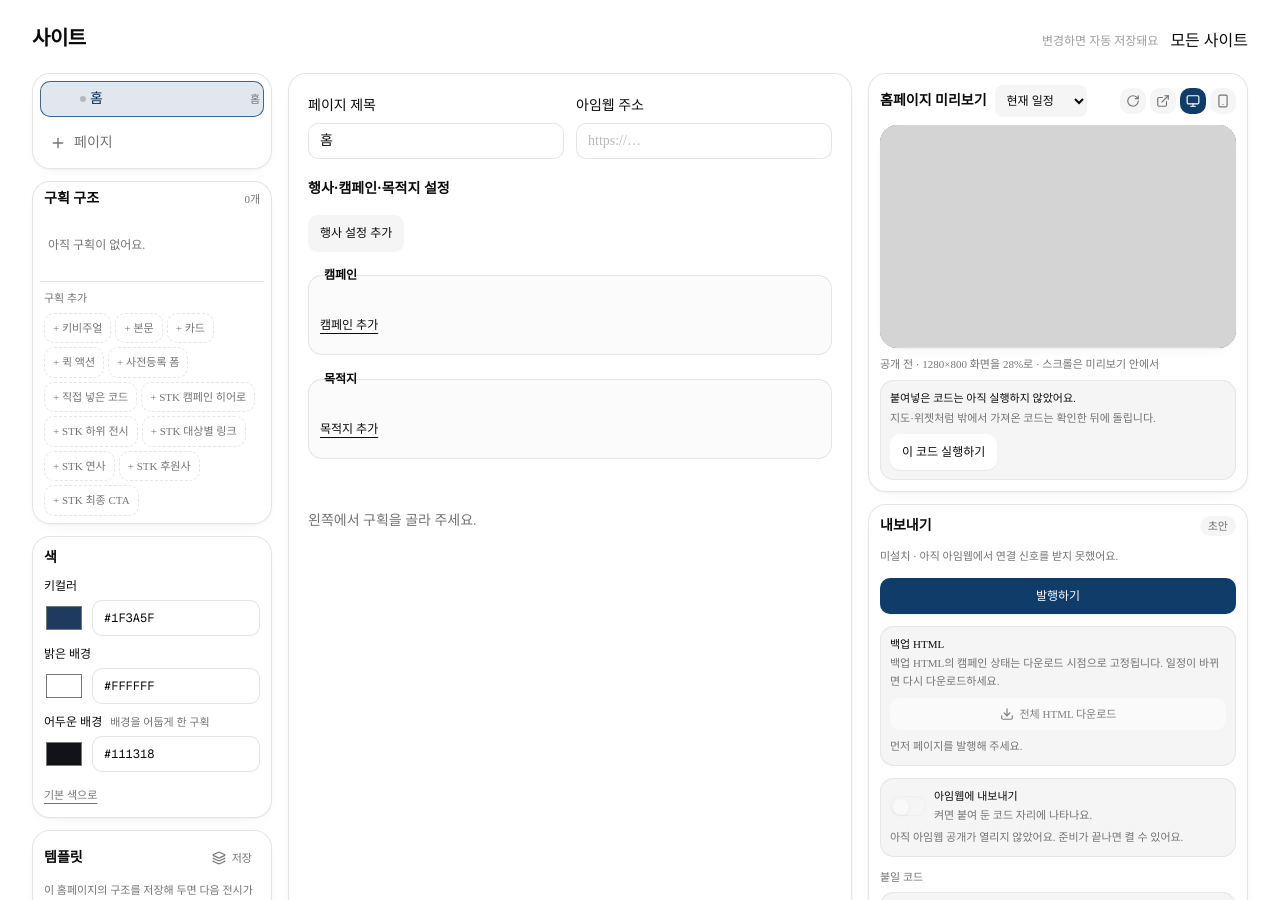
Test: 붙여넣은 코드 › 확인하면 그 지문으로만 실행을 요청한다
Click the button "이 코드 실행하기" at (944, 452), box [890,434,997,470]
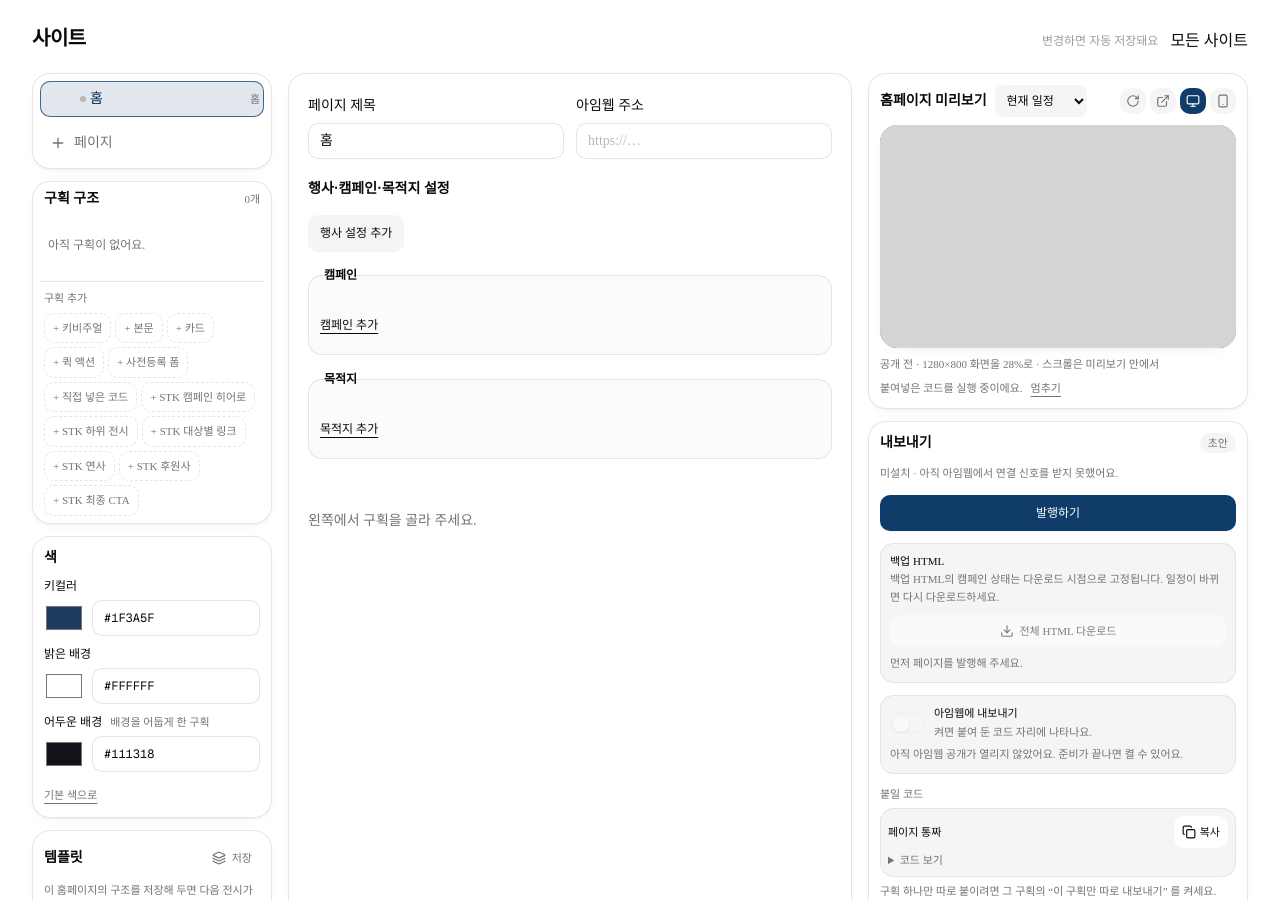
Result: the text "실행 중이에요" is shown at [880,382,1023,394]
